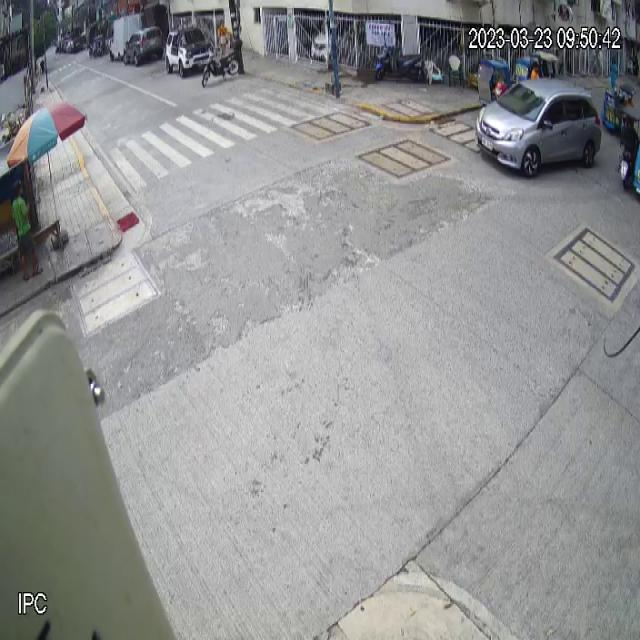Car: (475, 77, 602, 178)
